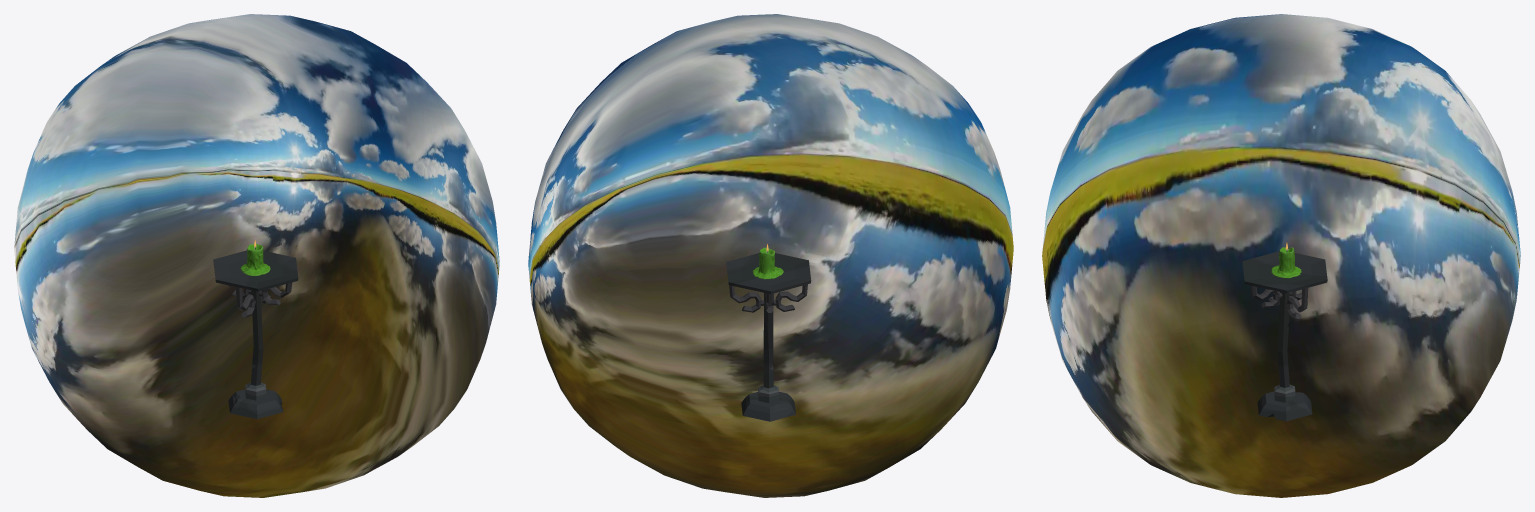
Rendered from XCandleAnimatedFlameShort.glb.
3 views of the same model, side by side, from view 1: azimuth 30°, elevation 25°; view 2: azimuth 150°, elevation 25°; view 3: azimuth 270°, elevation 25° (orthographic).
Parts seen in each view (by area): view 1: Room, Candle_Stand, XBase; view 2: Room, Candle_Stand, XBase; view 3: Room, Candle_Stand, XBase.
Part boxes in pixels (<box>): Room: <box>14,14,499,497</box>; Candle_Stand: <box>213,250,298,419</box>; XBase: <box>240,244,270,276</box>; Room: <box>528,14,1013,497</box>; Candle_Stand: <box>726,253,811,421</box>; XBase: <box>752,247,783,279</box>; Room: <box>1042,14,1520,497</box>; Candle_Stand: <box>1242,251,1327,421</box>; XBase: <box>1271,247,1301,278</box>.
Bounding box in the file's own units: 24.44 × 24.44 × 24.44.
Materials: 4 (4 with a texture image).
